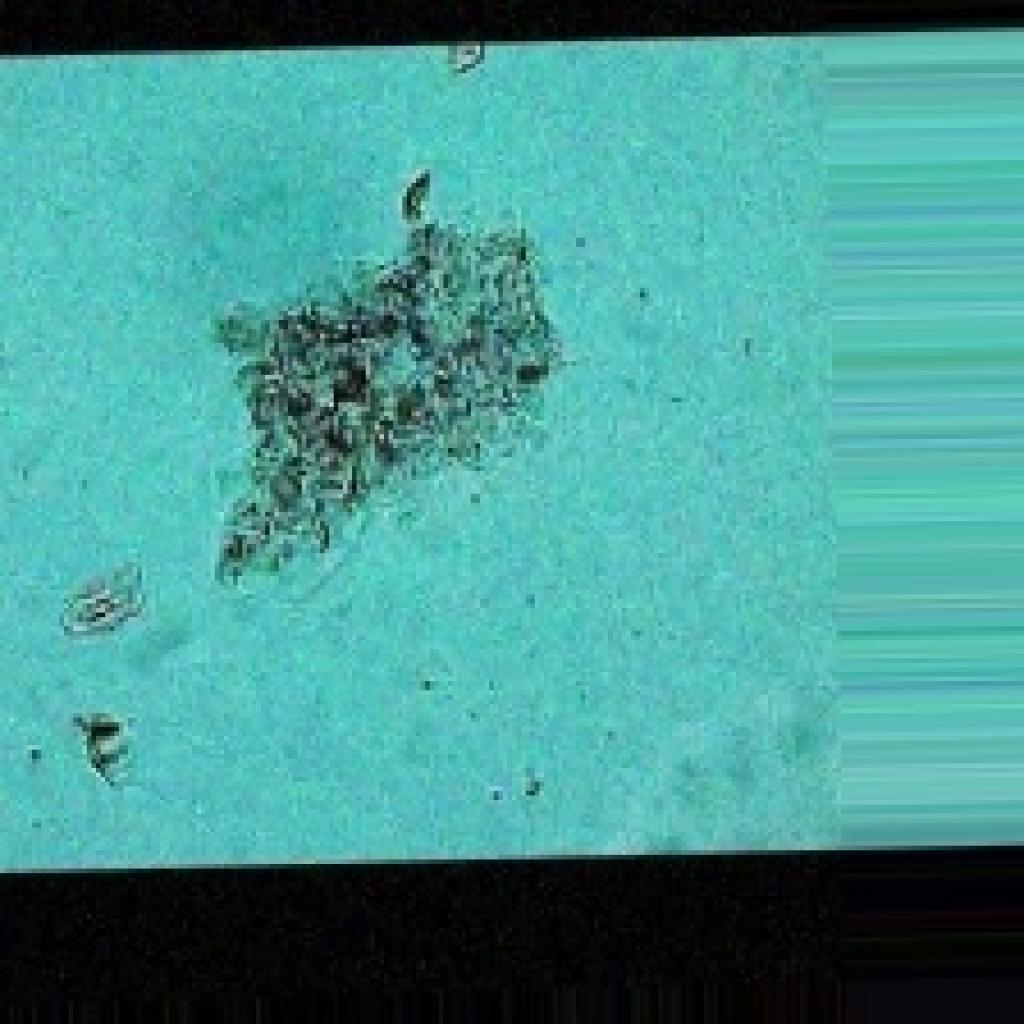Amoeba: (206, 164, 562, 590)
